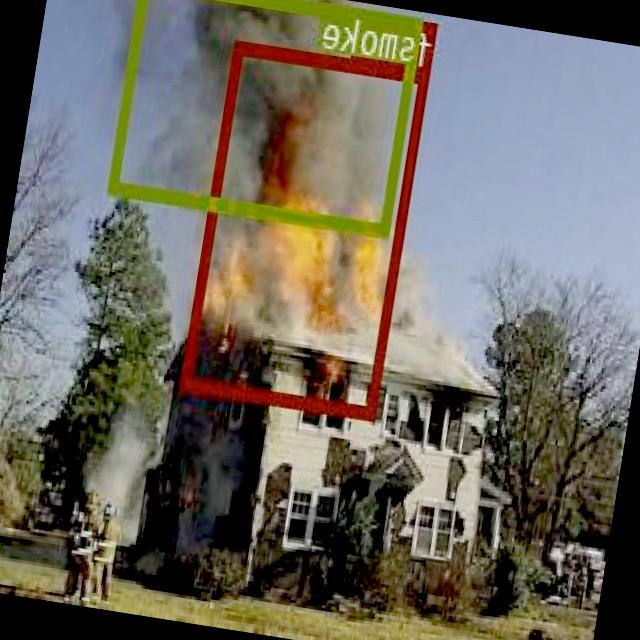fire: (182, 41, 432, 420)
smoke: (111, 0, 425, 236)
